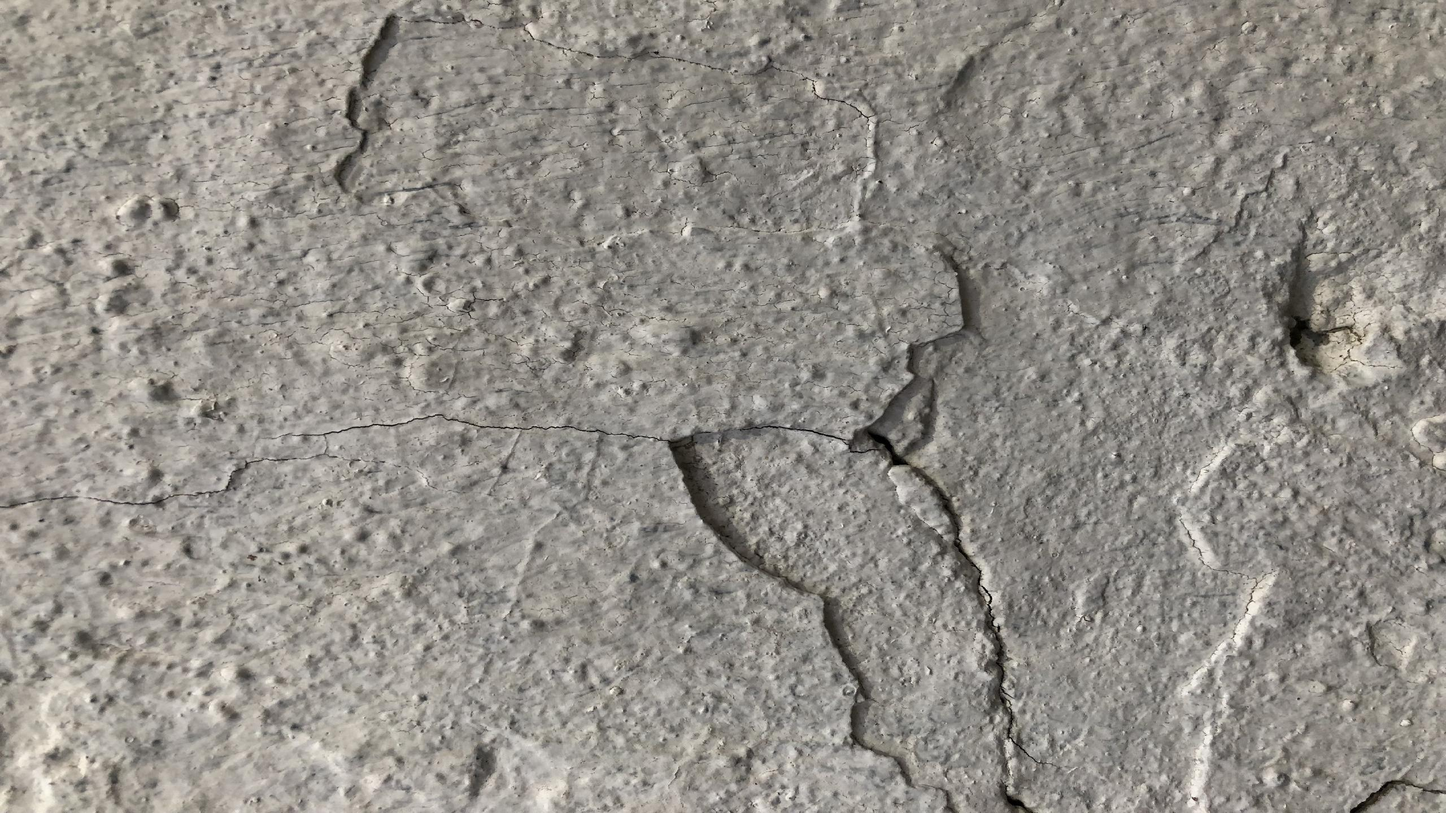crack: (8, 241, 1035, 812)
